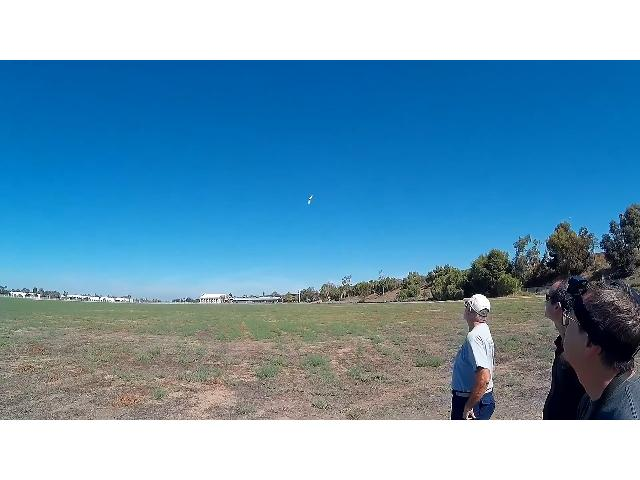Anti-Drone: (308, 196, 312, 205)
